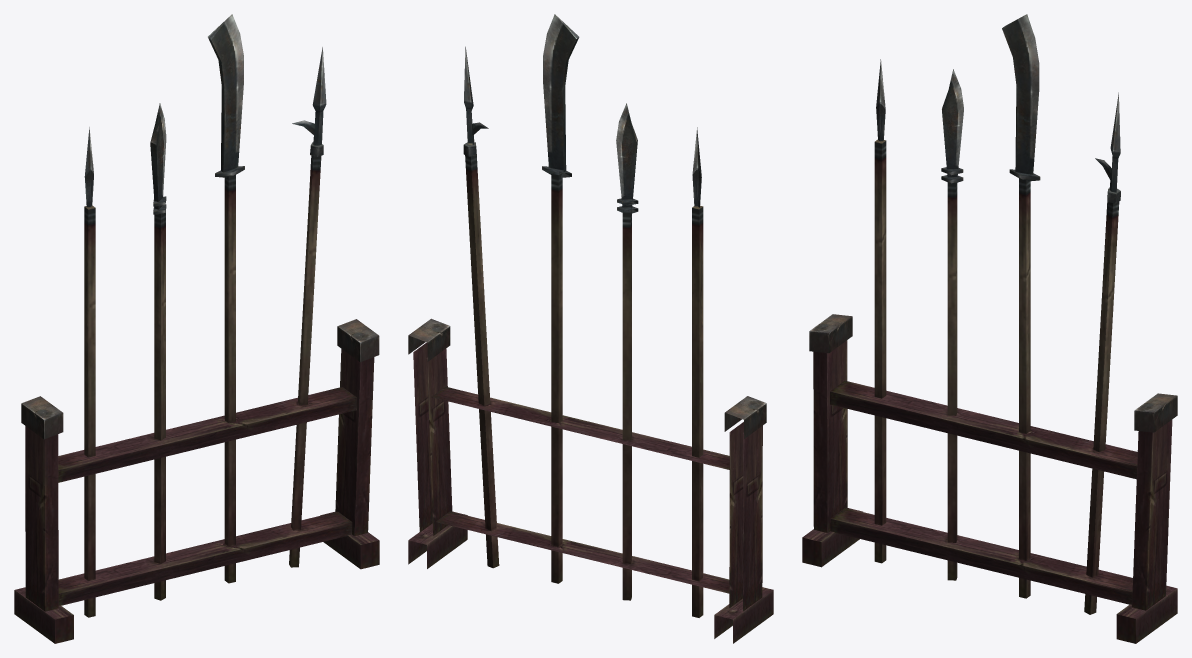
File: fb_hutouzhanchuan_wuqijia01.FBX
3 renders of one model, left to right at view 1: azimuth 30°, elevation 25°; view 2: azimuth 150°, elevation 25°; view 3: azimuth 330°, elevation 25°, orthographic. The views are drawn at different scales.
Parts seen in each view (by area): view 1: fb_hutouzhanchuan_wuqijia01; view 2: fb_hutouzhanchuan_wuqijia01; view 3: fb_hutouzhanchuan_wuqijia01.
Boxes of the visible parts, x1,y1,x2,y2 form: fb_hutouzhanchuan_wuqijia01: (14, 14, 379, 643); fb_hutouzhanchuan_wuqijia01: (408, 14, 773, 643); fb_hutouzhanchuan_wuqijia01: (802, 14, 1177, 643).
Size of the model in its own units: 126 by 204 by 26.47.
